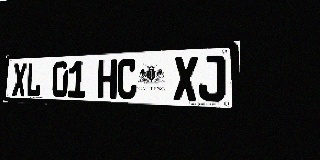0: (52, 61, 69, 97)
1: (68, 61, 86, 98)
C: (117, 58, 138, 99)
H: (97, 59, 117, 99)
J: (199, 55, 225, 102)
L: (26, 62, 41, 97)
X: (173, 56, 198, 101), (12, 63, 27, 96)
